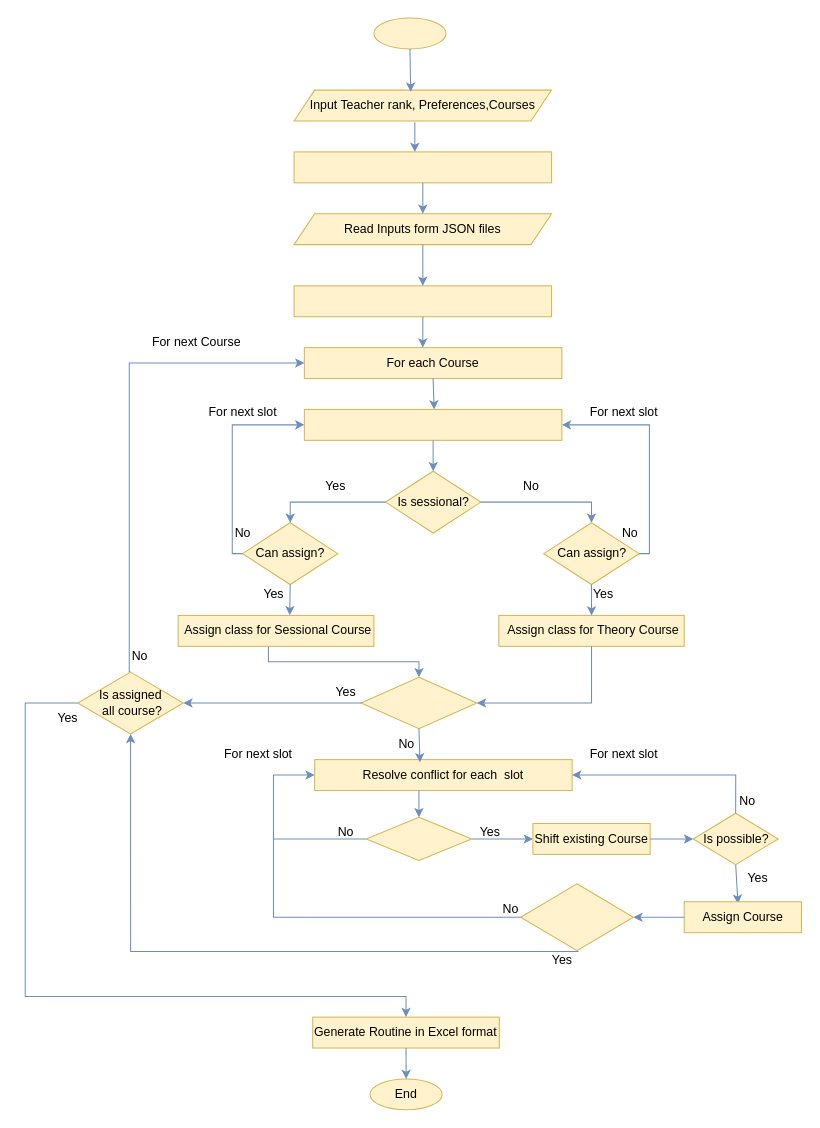
This 820x1128 diagram has some shape labels left out. Each missing label, with the box of its shape:
For each slot: (303, 408, 562, 440)
If credit>=class?: (360, 676, 477, 729)
Is conflict?: (365, 816, 472, 861)
Is credit>=class?: (520, 883, 633, 951)
Save Inputs to JSON files: (293, 151, 552, 183)
Sort Courses by Teacher's rank: (293, 285, 552, 317)
Start: (373, 17, 446, 49)
